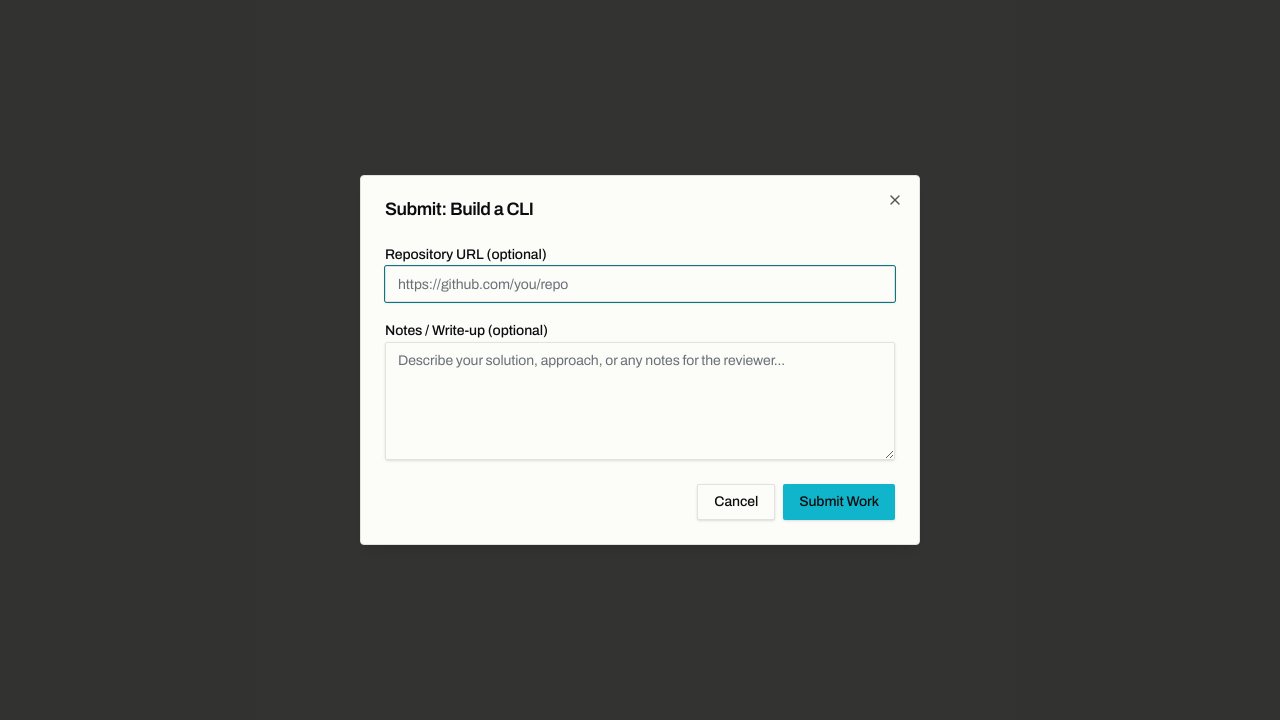
Test case: TaskSubmitDialog › does not send an empty submission
Click the button "Submit Work" at {"x": 839, "y": 502}, box [783, 484, 895, 520]
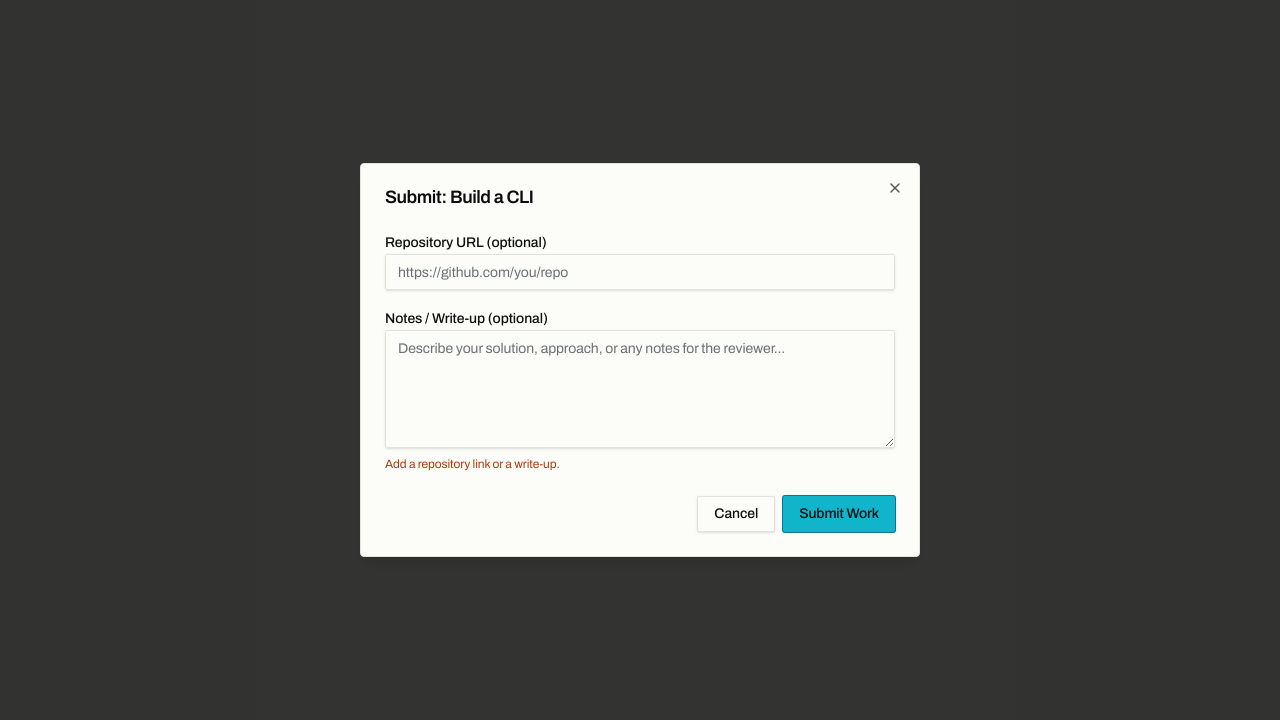
Result: the text "Add a repository link or a write-up." is shown at [385, 457, 560, 471]
